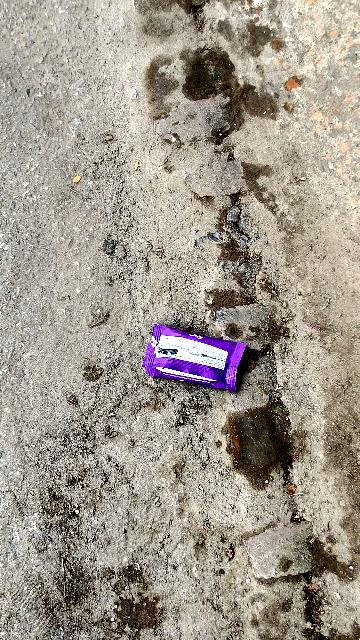packet: (142, 322, 252, 396)
